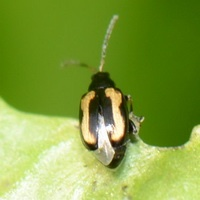insect: (79, 15, 143, 167)
